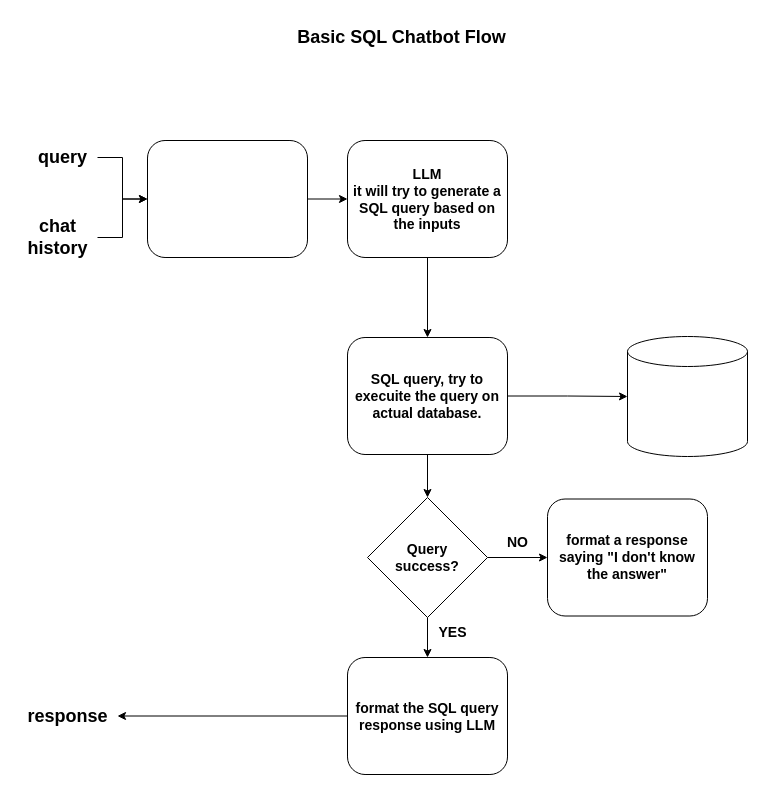
This 765x792 diagram has some shape labels left out. The box of each missing label's shape, as (x1, y1, x2, y2) in pixels:
prompt + tablt info + chat history + query: (146, 140, 308, 258)
SQL Database: (626, 336, 748, 456)
